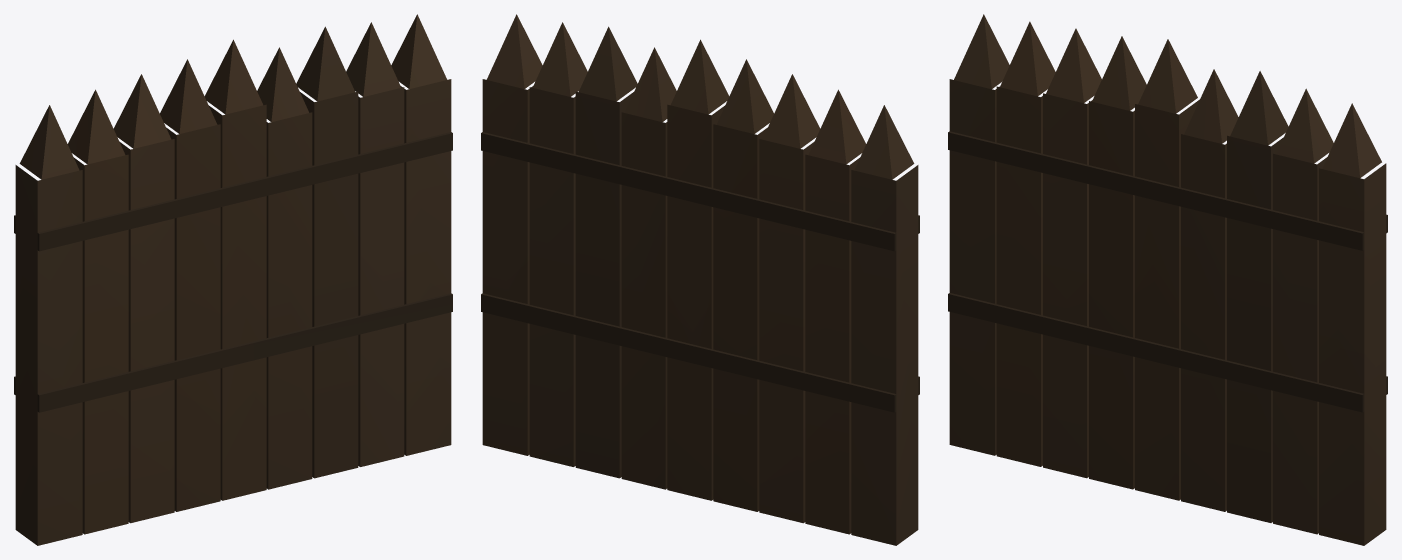
File: fence.palisade.dark.glb
3 views of the same model, side by side, from view 1: azimuth 30°, elevation 25°; view 2: azimuth 150°, elevation 25°; view 3: azimuth 330°, elevation 25° (orthographic).
Parts seen in each view (by area): view 1: fence_palisade_dark; view 2: fence_palisade_dark; view 3: fence_palisade_dark.
Boxes of the visible parts, left/top/right/bottom form: fence_palisade_dark: left=14, top=14, right=452, bottom=545; fence_palisade_dark: left=481, top=14, right=919, bottom=545; fence_palisade_dark: left=948, top=14, right=1387, bottom=545.
Size of what is drawn, in the model's own units: 1.74 by 1.8 by 0.184.
